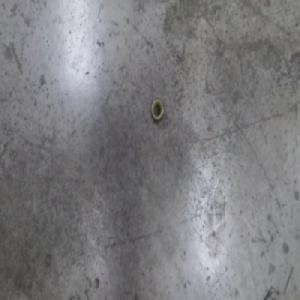Nut: (150, 96, 164, 124)
